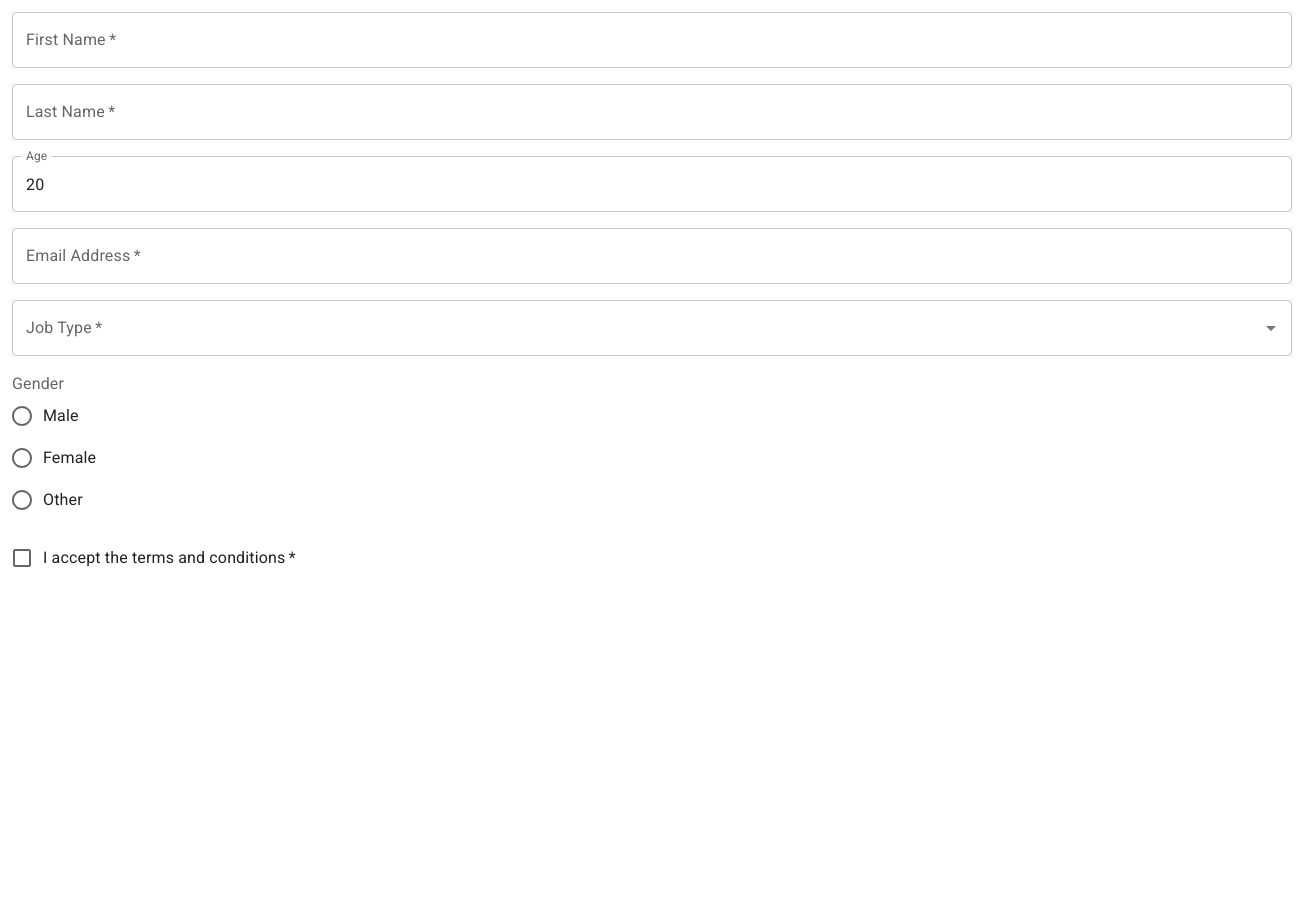
Test: SignUpForm › renders known languages field when job type is development
Click the dropdown labelled "Job Type" at [637, 328], box x1=21 y1=309 x2=1253 y2=347
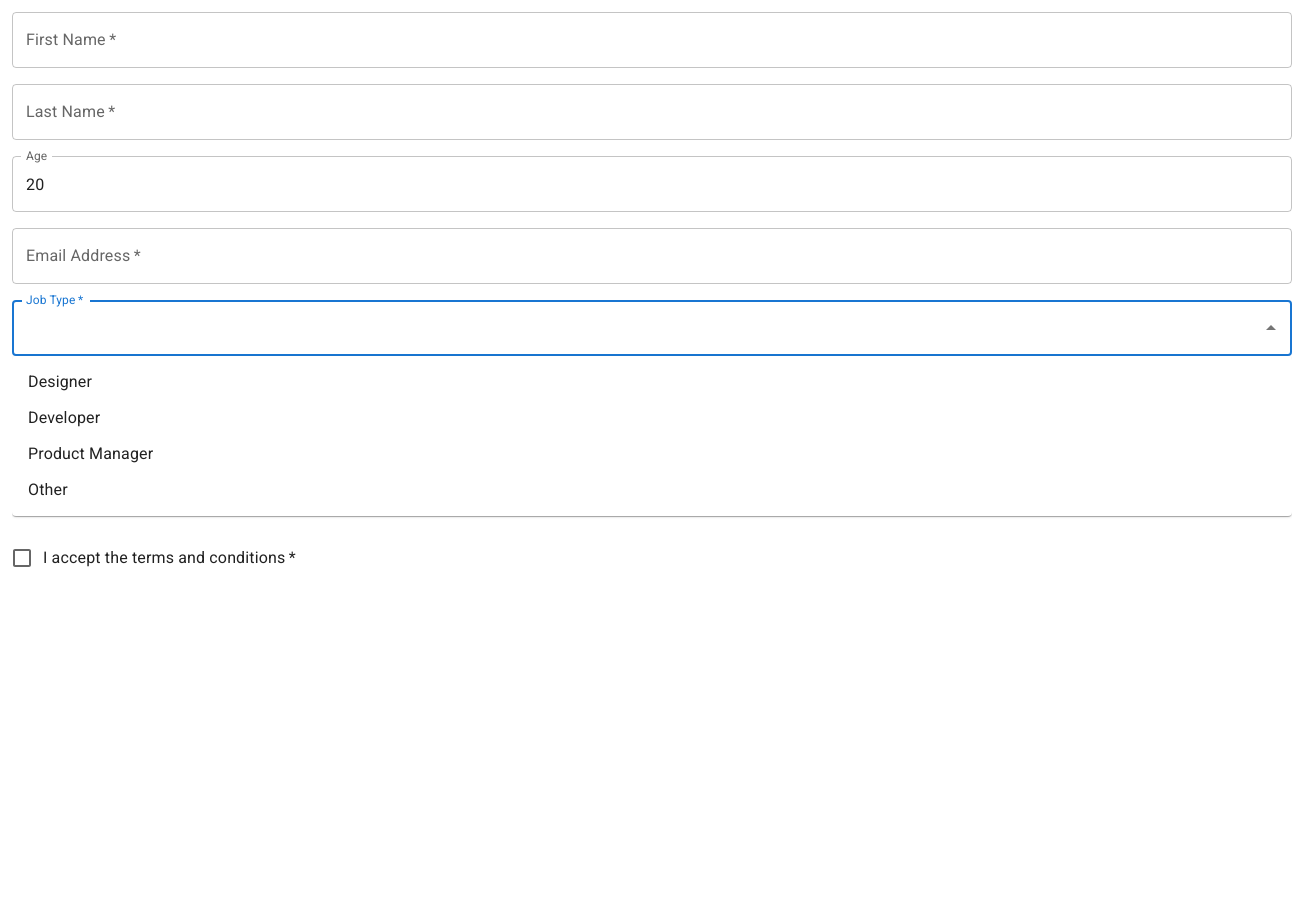
Click the option "Developer" at [64, 418], box x1=28 y1=408 x2=100 y2=427
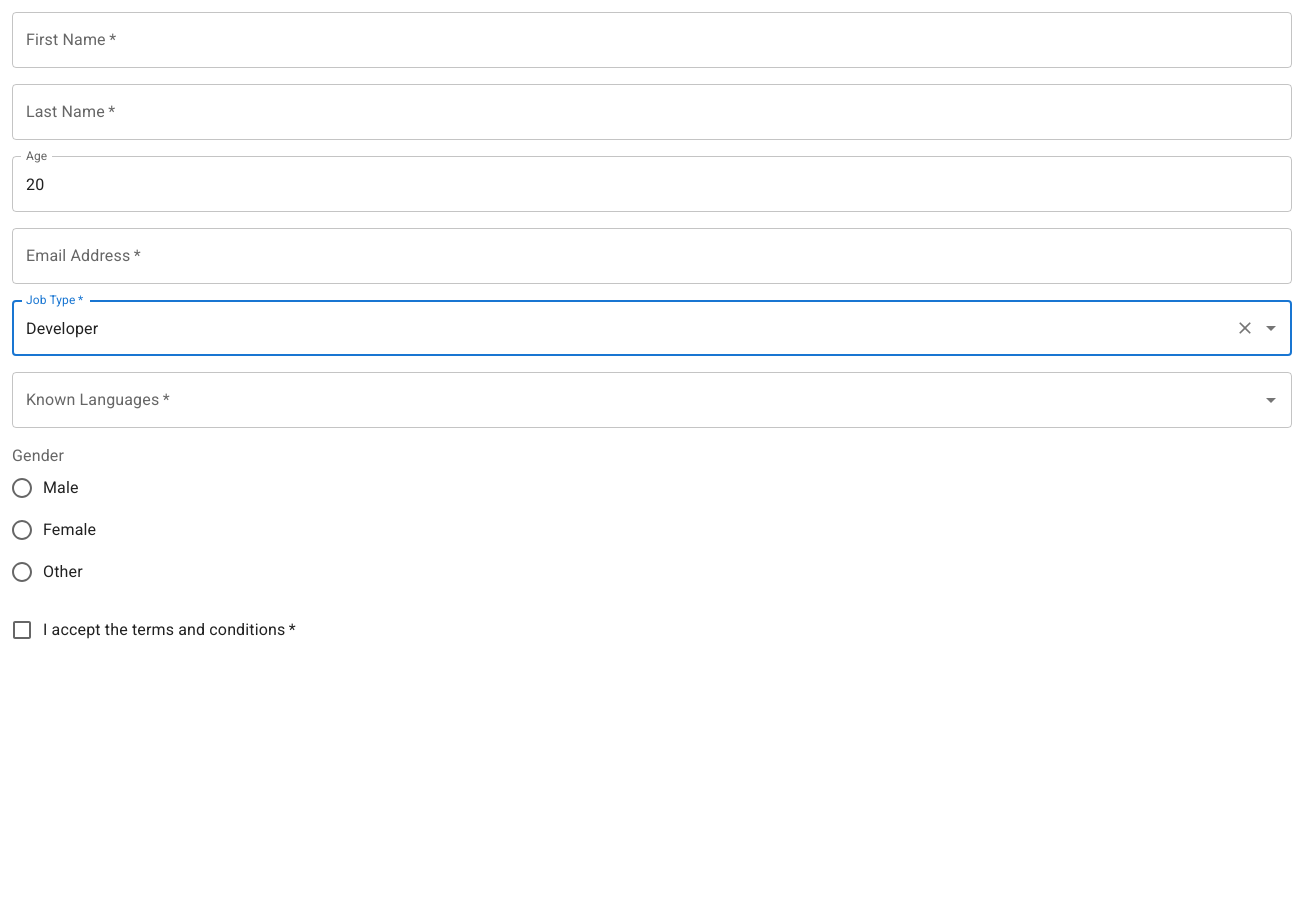
Check: the dropdown labelled "Known Languages *" is shown, box x1=21 y1=381 x2=1253 y2=419
